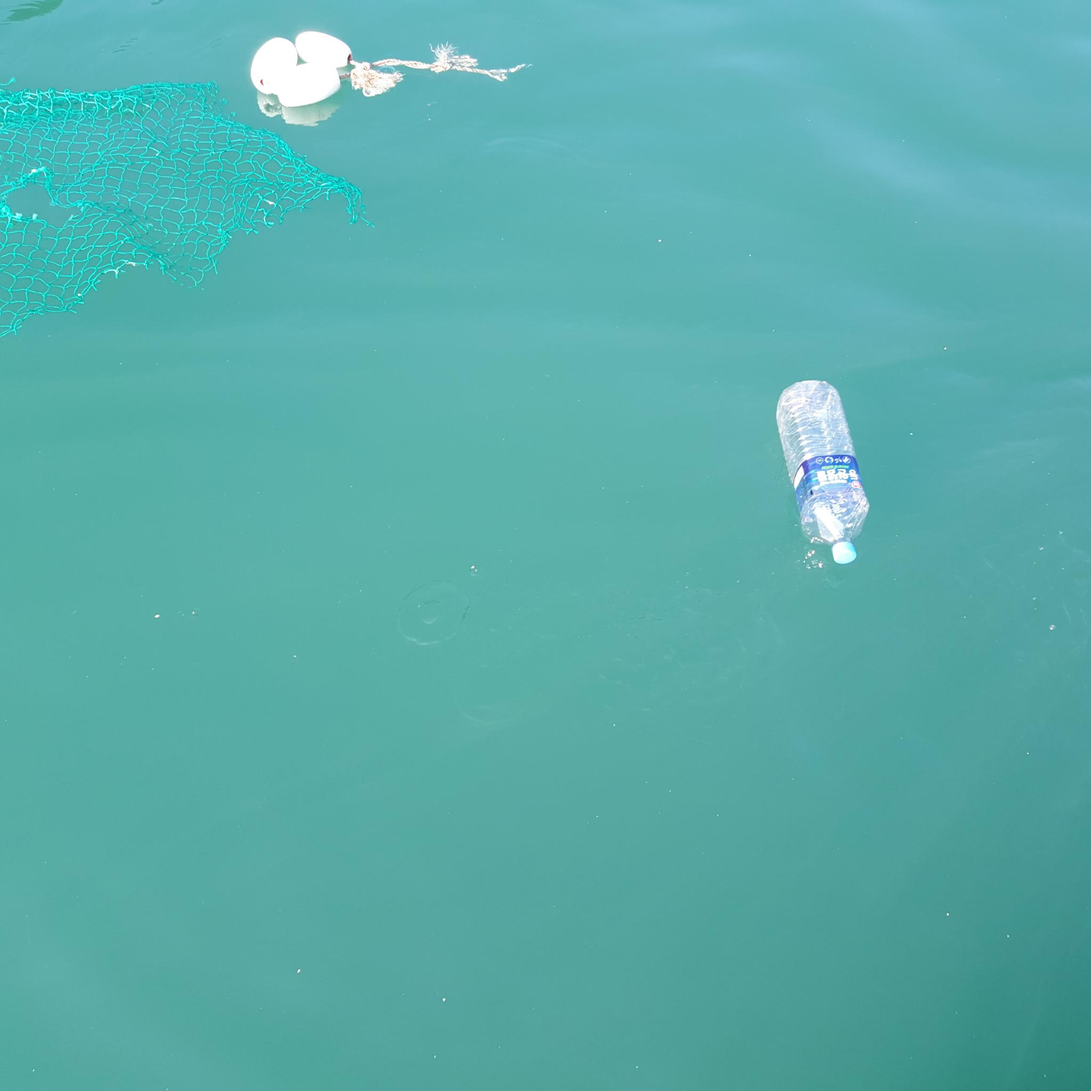sampah_terapung: (1, 77, 376, 338), (776, 380, 869, 565), (339, 42, 533, 97), (277, 64, 341, 107), (251, 38, 298, 95), (296, 32, 353, 68)
